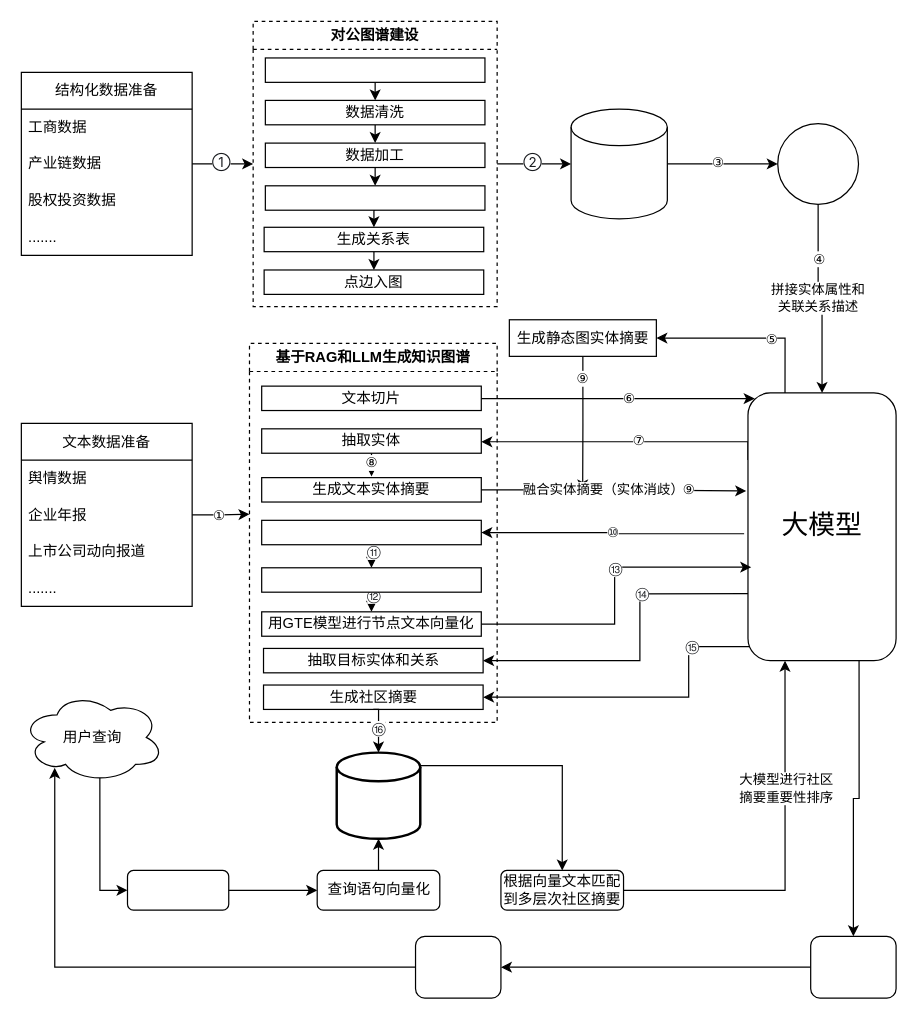
The diagram is 917 pixels wide and 1020 high, and some of its shapes have lost their labels. The shapes that lost their labels are listed below. From the top down, each one's centre as x and y in pixels, then its label:
the point at 374,69: 图结构设计
the point at 618,163: 图数据库
the point at 818,163: 对公图谱
the point at 374,197: 生成实体表
the point at 370,532: 生成最终节点摘要
the point at 370,579: 社区检测算法划分多层级社群
the point at 378,795: 知识库
the point at 177,889: 实体抽取
the point at 457,966: 最终回答
the point at 852,966: 企金营销提示语模版
